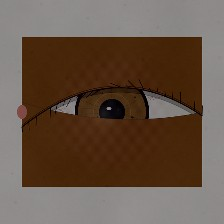pinguecula_lesion: (17, 98, 63, 135)
